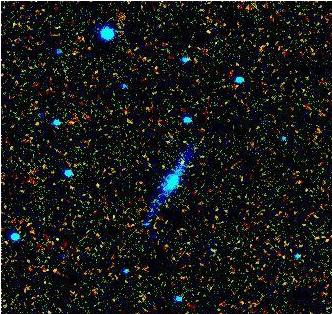star: (164, 148, 194, 178)
